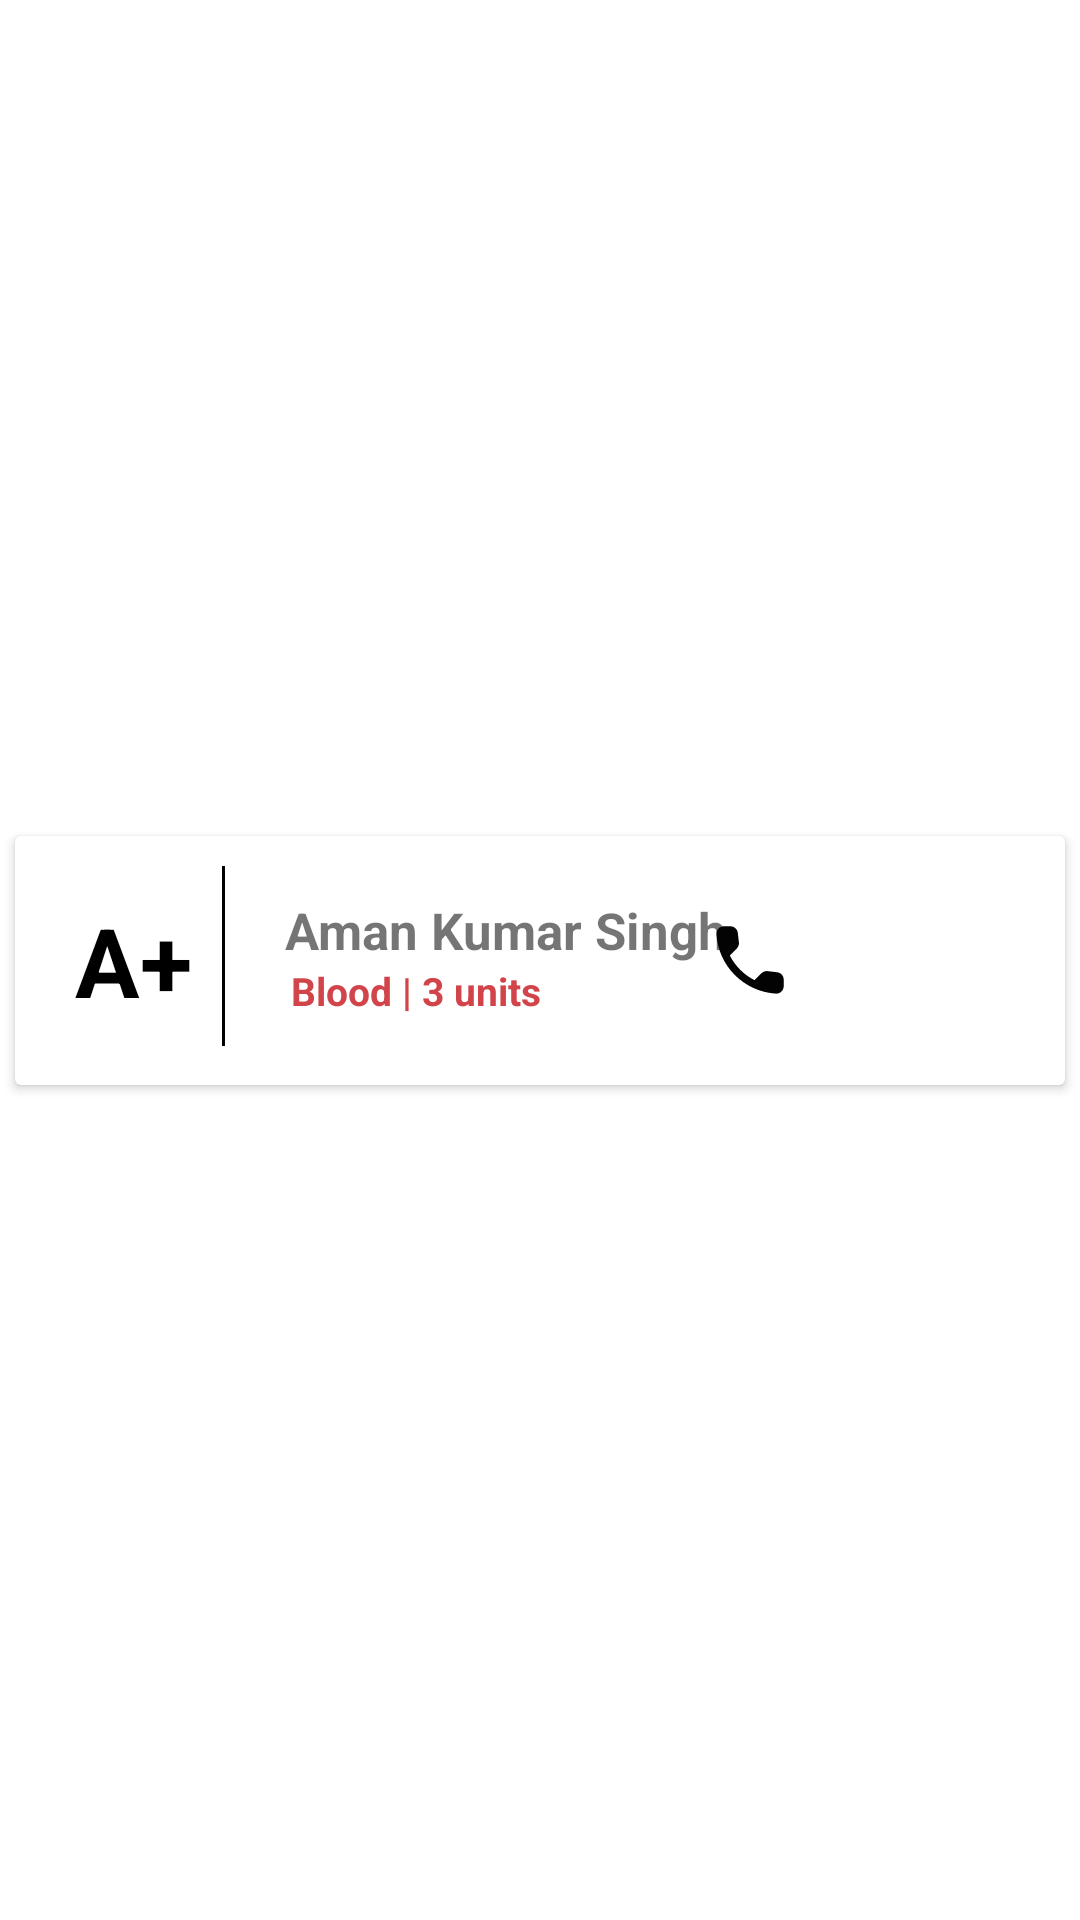

Point at icon controls on the screen. Image size 1080px x 1920px, points as (x=x, y=y).
call: (x=744, y=954)
